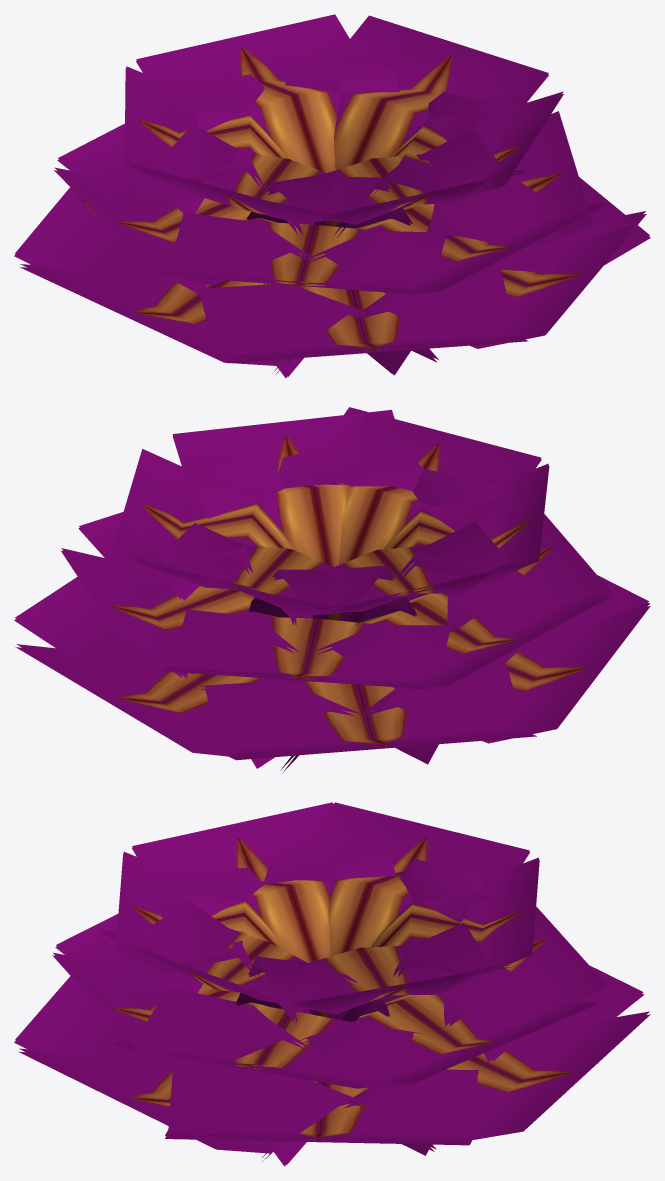
File: Plant_018.fbx
3 renders of one model, top to bottom at view 1: azimuth 30°, elevation 25°; view 2: azimuth 150°, elevation 25°; view 3: azimuth 270°, elevation 25°, orthographic.
Parts seen in each view (by area): view 1: Plant_018; view 2: Plant_018; view 3: Plant_018.
Boxes of the visible parts, x1,y1,x2,y2 form: Plant_018: (14, 14, 650, 378); Plant_018: (14, 407, 650, 773); Plant_018: (14, 802, 650, 1166).
Size of the model in its own units: 203 by 75.11 by 213.
